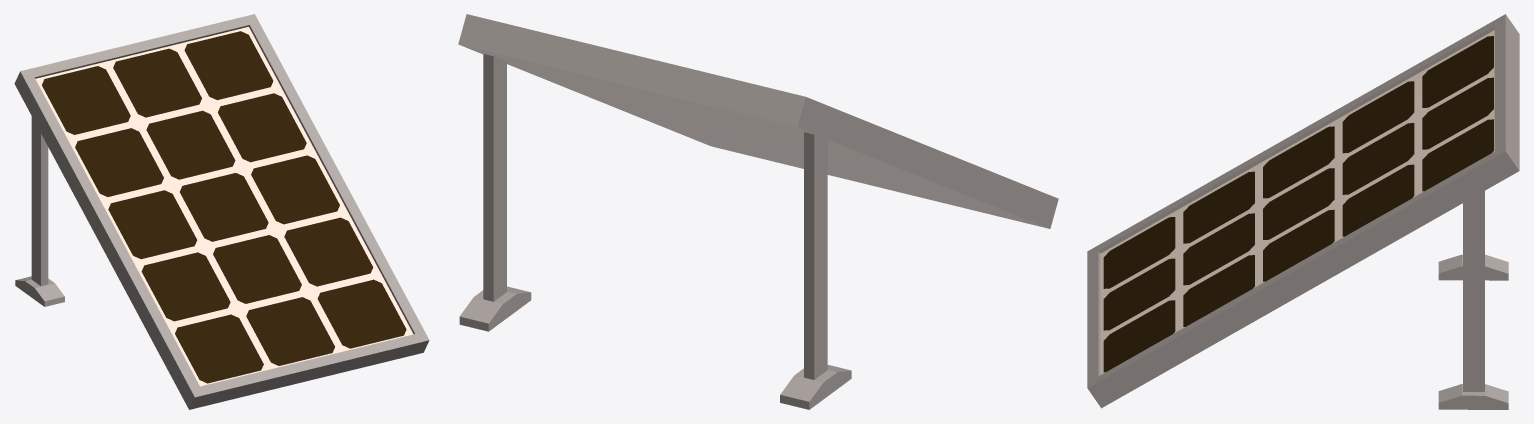
The model's file is solar-panel-ground.glb.
3 renders of one model, left to right at view 1: azimuth 30°, elevation 25°; view 2: azimuth 150°, elevation 25°; view 3: azimuth 270°, elevation 25°, orthographic. The views are drawn at different scales.
Parts seen in each view (by area): view 1: SolarPanel_Ground; view 2: SolarPanel_Ground; view 3: SolarPanel_Ground.
Part boxes in pixels (box(x1,y1,x2,y2)): SolarPanel_Ground: box(14, 14, 429, 409); SolarPanel_Ground: box(458, 14, 1058, 409); SolarPanel_Ground: box(1087, 14, 1519, 409).
Bounding box in the file's own units: 1.29 × 1.1 × 1.67.
Materials: 1 (1 with a texture image).
